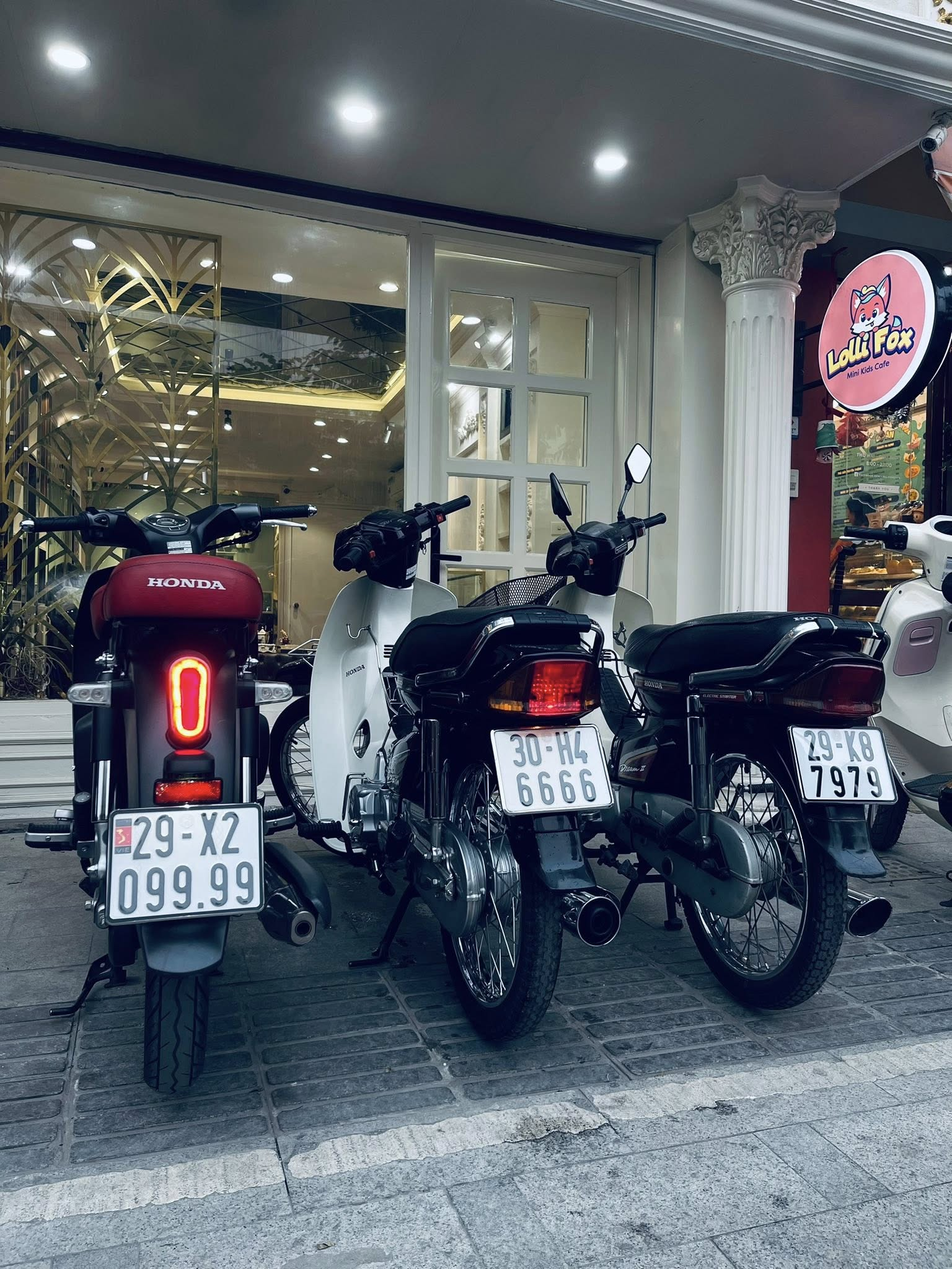bien_so: (97, 796, 284, 936), (480, 716, 621, 825), (783, 722, 905, 816)
